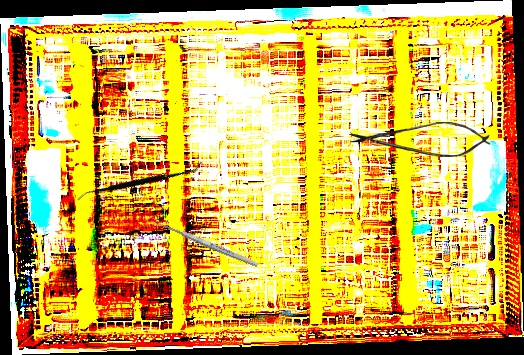Micro Scissor: (349, 122, 491, 157)
Spatula Surgical: (75, 117, 204, 245)
Surgical Spoon: (150, 216, 259, 269)
